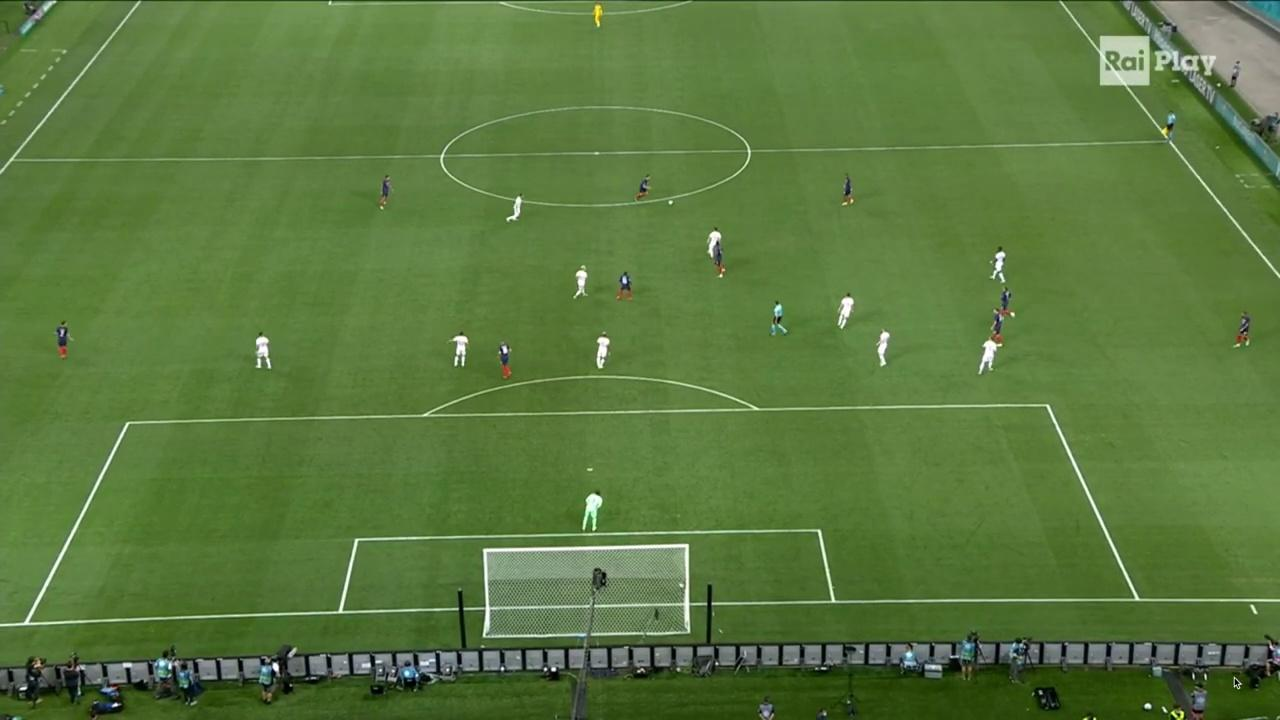ball: (668, 200, 674, 206)
goalkeeper: (581, 488, 605, 532), (590, 0, 604, 28)
player: (51, 320, 75, 360), (977, 334, 999, 377), (446, 331, 469, 369), (835, 291, 855, 330), (253, 331, 272, 371), (989, 246, 1008, 285), (1232, 310, 1251, 349), (874, 327, 891, 368), (505, 192, 526, 225), (595, 330, 612, 370), (496, 341, 513, 380), (377, 174, 395, 210), (572, 263, 589, 301), (616, 270, 635, 302), (989, 307, 1004, 347), (999, 285, 1016, 320), (634, 172, 652, 204), (706, 226, 724, 258), (712, 241, 726, 280), (840, 171, 855, 207)
referee: (768, 299, 788, 339), (1159, 108, 1179, 145)
